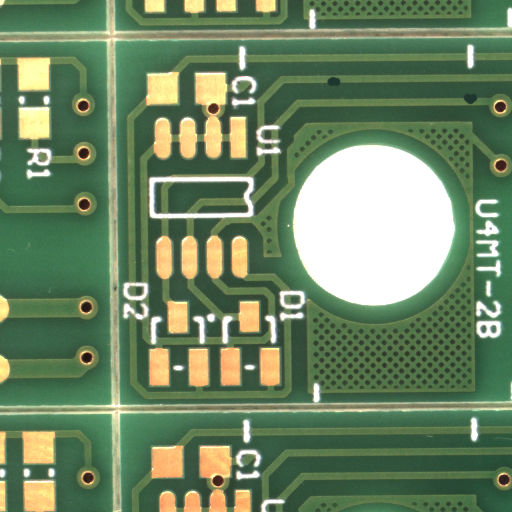Mouse_bite: (470, 98, 484, 109), (333, 81, 347, 91)
